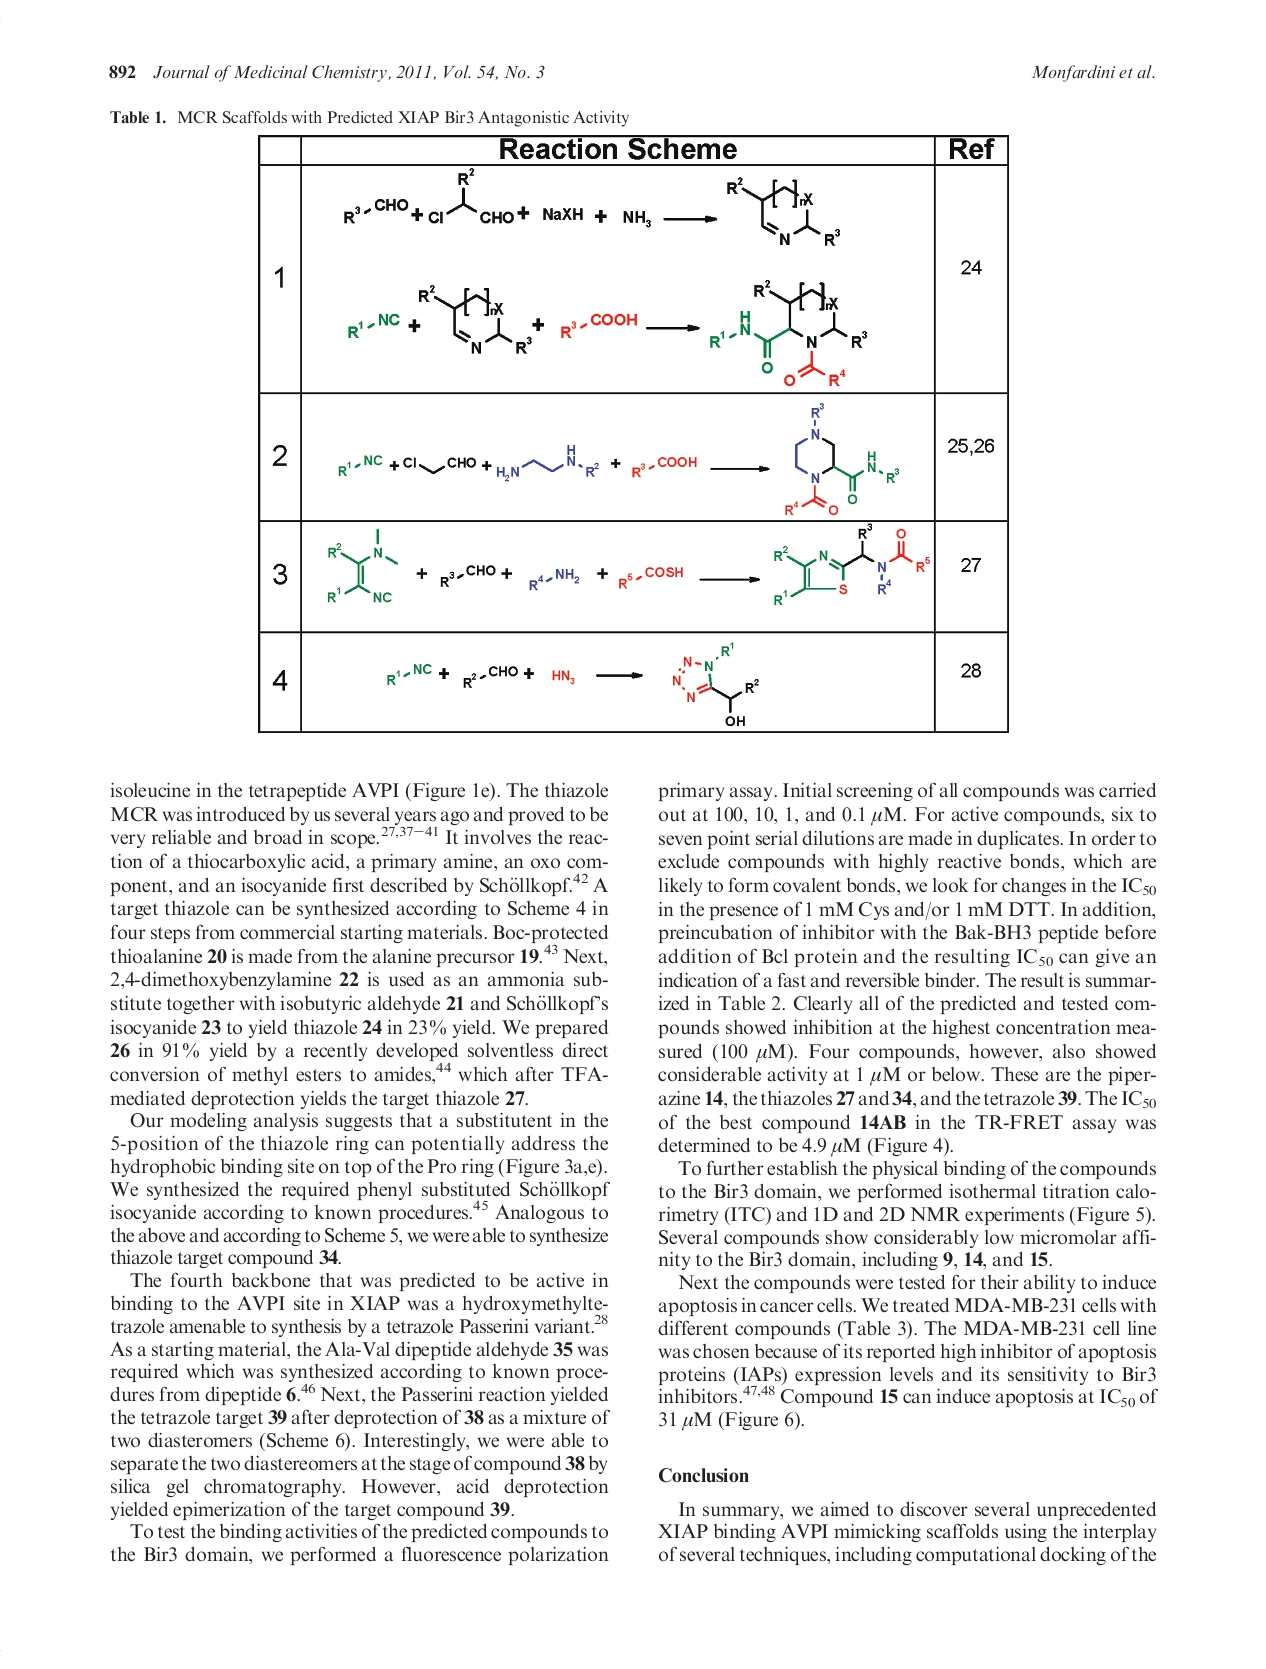exist_molecular: (705, 273, 868, 388), (783, 402, 902, 517), (771, 523, 930, 609), (717, 170, 843, 255), (415, 279, 535, 356), (669, 640, 769, 727), (320, 524, 402, 605), (426, 166, 516, 233), (493, 438, 602, 484), (556, 297, 642, 347), (340, 189, 411, 226), (628, 447, 699, 483), (613, 561, 688, 596), (400, 448, 480, 477), (342, 305, 402, 342), (461, 660, 523, 696), (523, 559, 582, 594), (436, 556, 497, 590), (380, 657, 434, 692), (334, 451, 386, 477)
